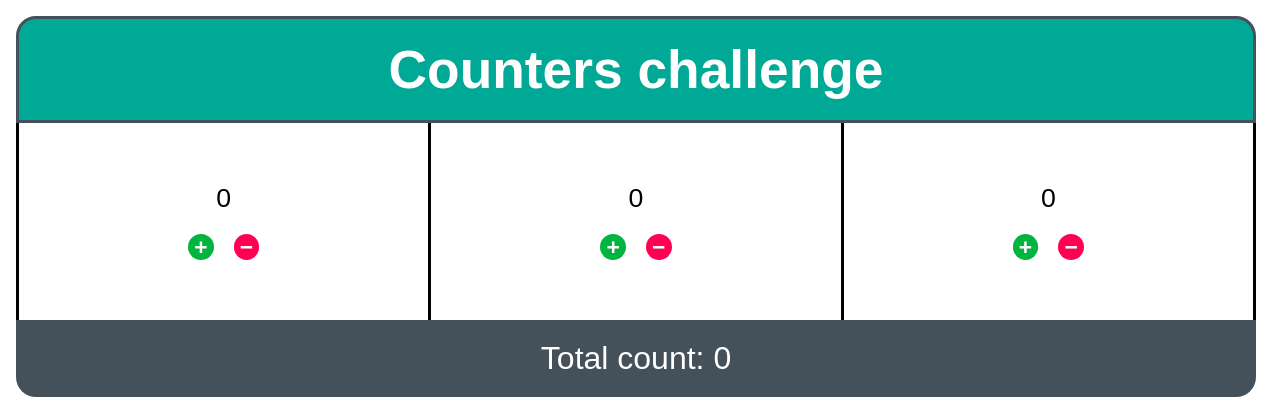
Test: Counter App › should increment and decrement counters correctly and update sum
The image size is (1273, 414).
# Click the first increment button
Step 1. Click the 1st button with test id "increment-button" → [201, 247], box [188,234,214,260]
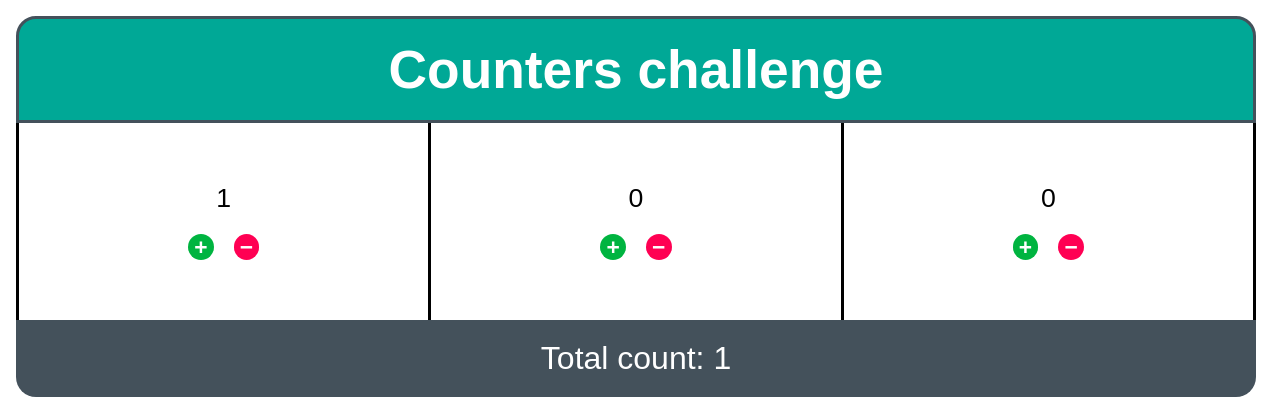
Result: the text with test id "counter-value" reads "1" at [216,183,231,213]
Result: the text with test id "sum-element" reads "Total count: 1" at [16,320,1256,397]
# Click the second increment button
Step 2. Click the 2nd button with test id "increment-button" → [613, 247], box [600,234,626,260]
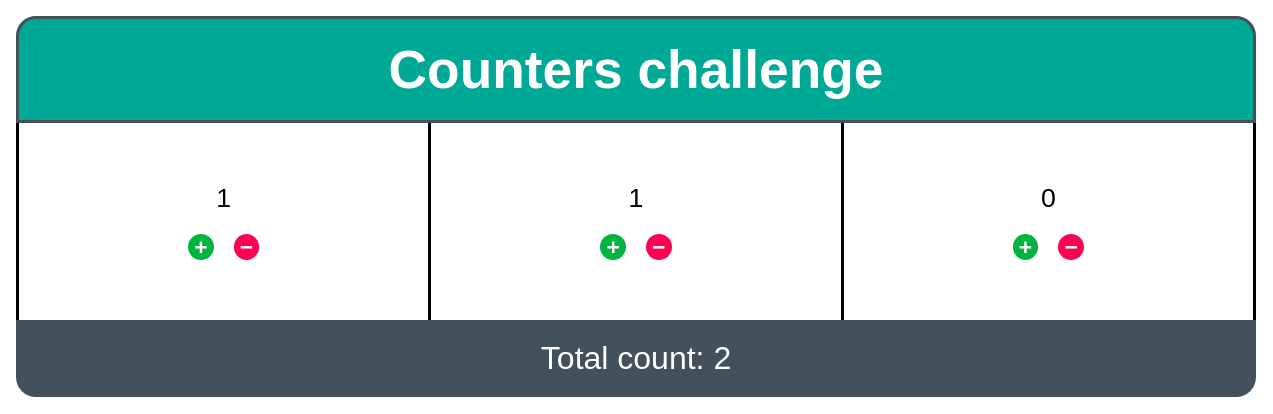
Result: the 2nd text with test id "counter-value" reads "1" at [629,183,643,213]
Result: the text with test id "sum-element" reads "Total count: 2" at [16,320,1256,397]
# Click the third increment button
Step 3. Click the 3rd button with test id "increment-button" → [1026, 247], box [1013,234,1038,260]
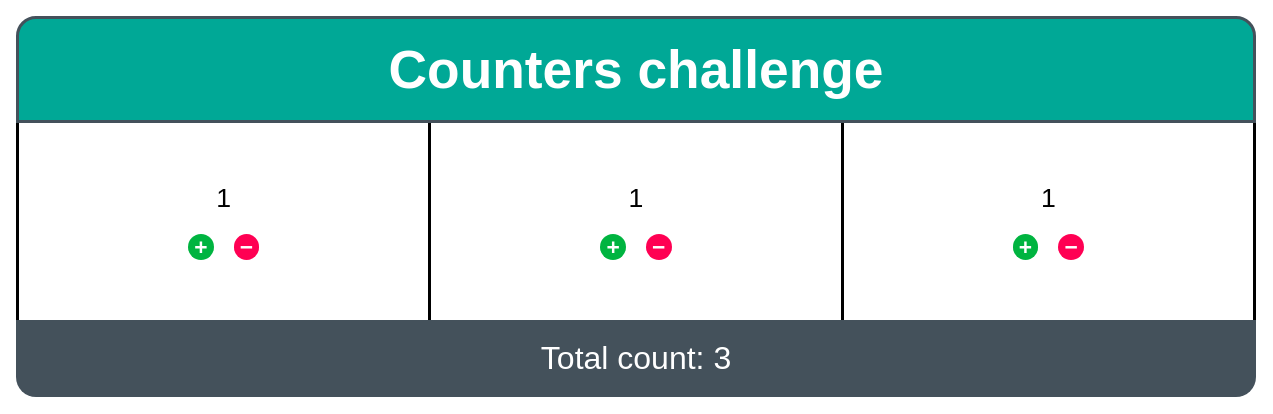
Result: the 2nd text with test id "counter-value" reads "1" at [629,183,643,213]
Result: the text with test id "sum-element" reads "Total count: 3" at [16,320,1256,397]
# Click the first decrement button
Step 4. Click the 1st button with test id "decrement-button" → [246, 247], box [234,234,259,260]
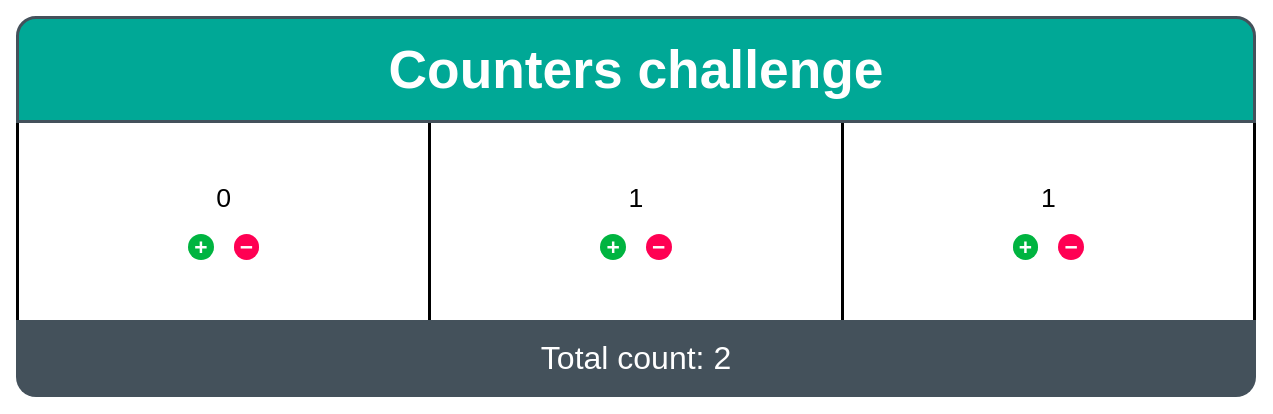
Result: the text with test id "counter-value" reads "0" at [216,183,231,213]
Result: the text with test id "sum-element" reads "Total count: 2" at [16,320,1256,397]
# Click the second decrement button
Step 5. Click the 2nd button with test id "decrement-button" → [659, 247], box [646,234,672,260]
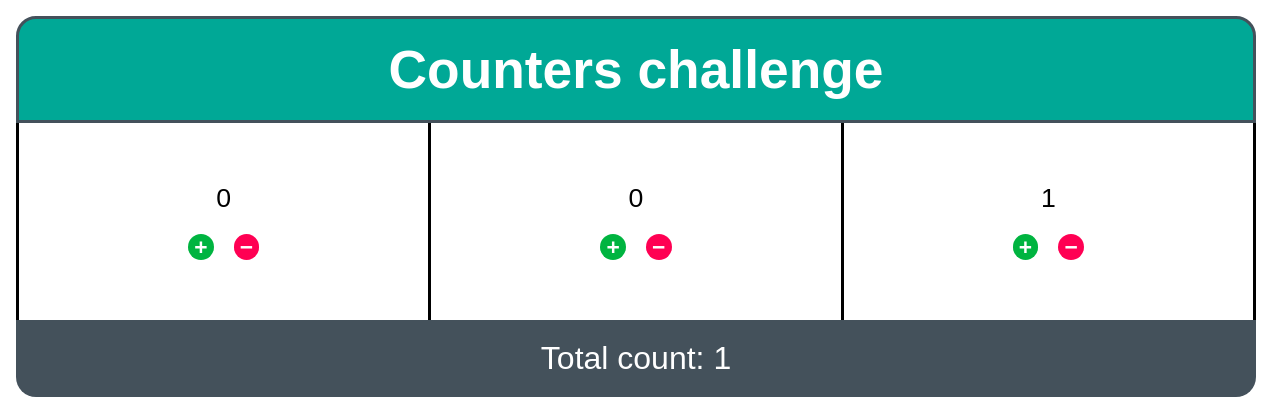
Result: the 2nd text with test id "counter-value" reads "0" at [629,183,643,213]
Result: the text with test id "sum-element" reads "Total count: 1" at [16,320,1256,397]
# Click the third decrement button
Step 6. Click the 3rd button with test id "decrement-button" → [1071, 247], box [1058,234,1084,260]
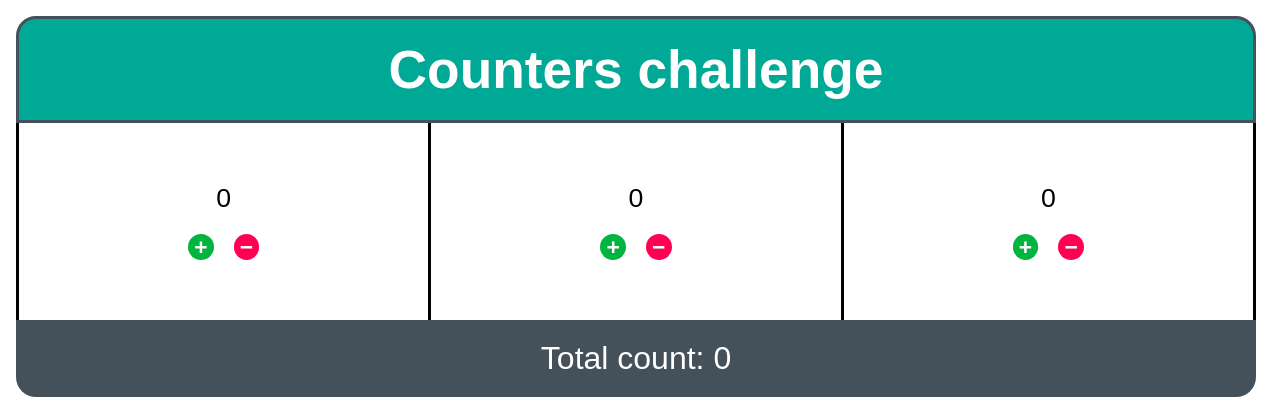
Result: the 2nd text with test id "counter-value" reads "0" at [629,183,643,213]
Result: the text with test id "sum-element" reads "Total count: 0" at [16,320,1256,397]
